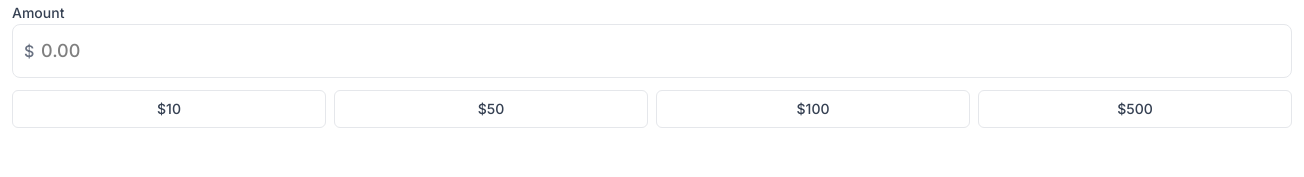
Test case: TradeAmountInput › Validation › shows error for amount below minimum ($1)
This screenshot has width=1304, height=177.
Type "0.50" into the field named "trade amount".
click(652, 51); type("0.50")  # box [12,24,1292,78]
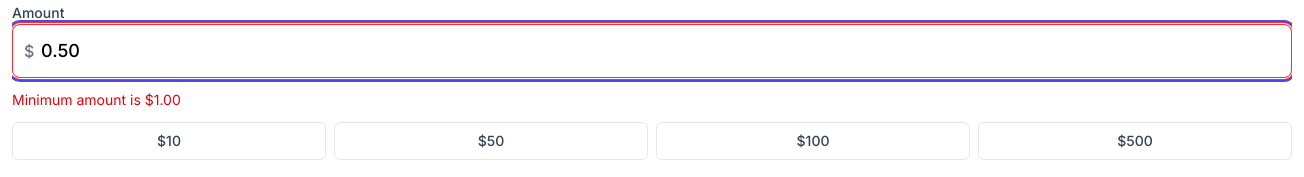
Expected: the message shows "Minimum amount", [12,91,181,108]
